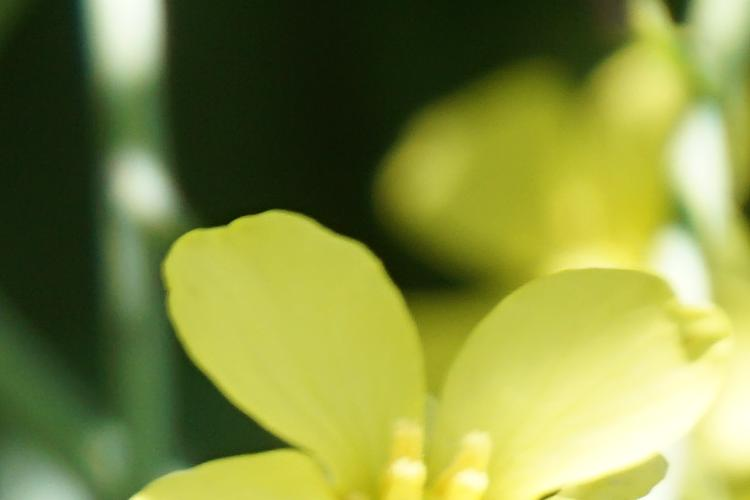yellow: (145, 208, 700, 486)
